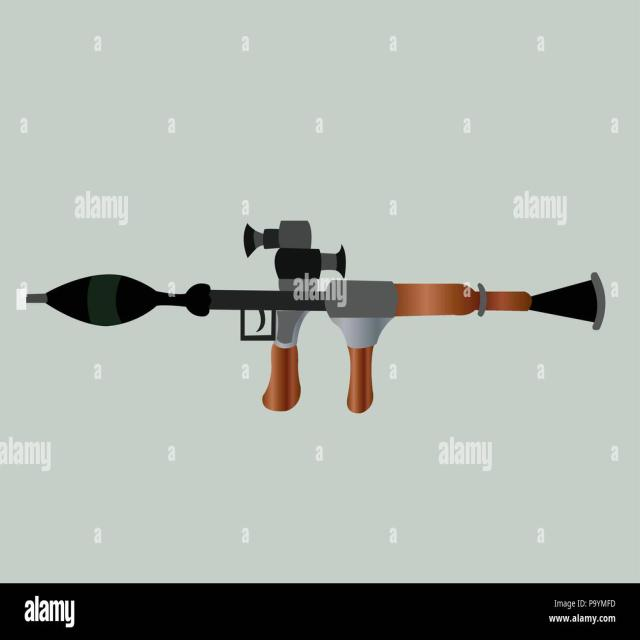Gun: (16, 215, 612, 427)
